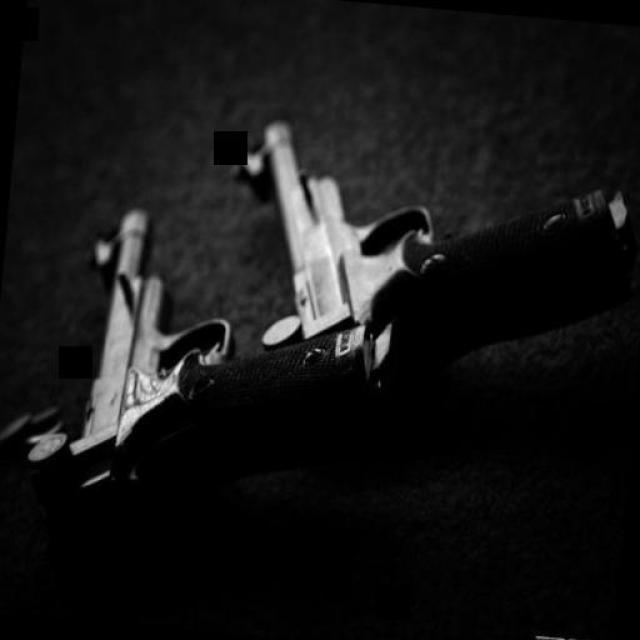gun: (220, 98, 639, 432), (17, 198, 395, 520)
